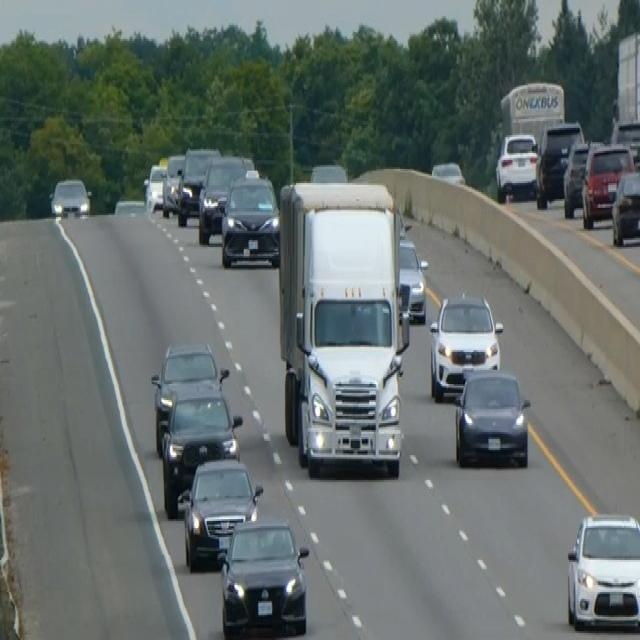car: (143, 140, 281, 270), (219, 516, 310, 638), (160, 388, 243, 518), (177, 453, 263, 571), (150, 339, 228, 454), (565, 510, 639, 631), (428, 290, 503, 402), (452, 364, 531, 468), (220, 172, 280, 268), (197, 153, 250, 243), (581, 140, 635, 228), (535, 119, 584, 206), (176, 144, 220, 226), (494, 130, 538, 201), (397, 236, 428, 322), (610, 167, 639, 245), (562, 139, 591, 217), (50, 176, 90, 219), (161, 151, 185, 217), (611, 118, 639, 172), (142, 162, 166, 213), (430, 158, 465, 185), (309, 160, 347, 183)
lorry: (276, 176, 410, 478)
